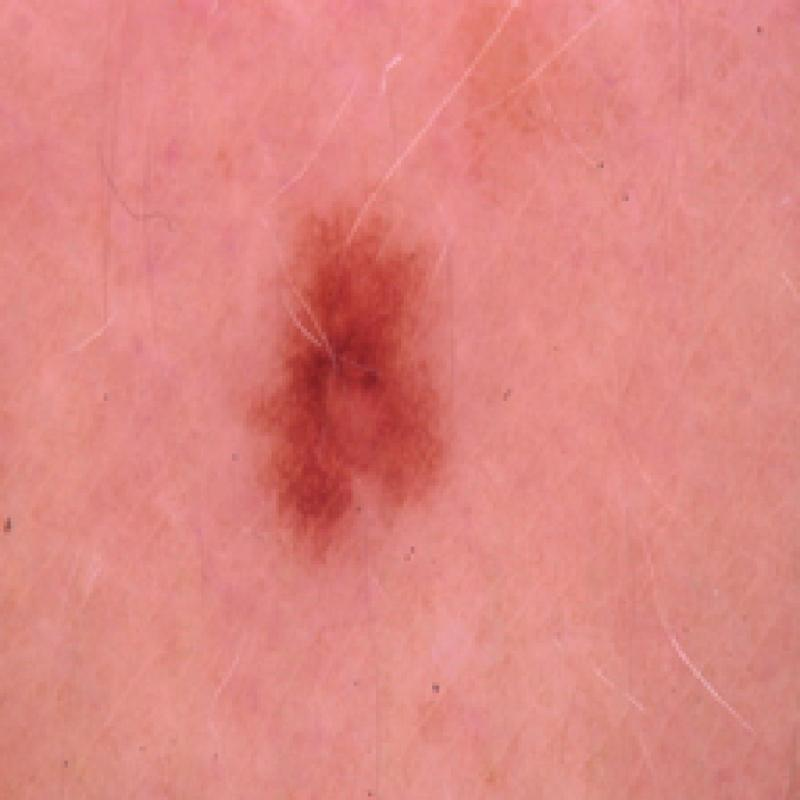benign: (236, 182, 473, 590)
